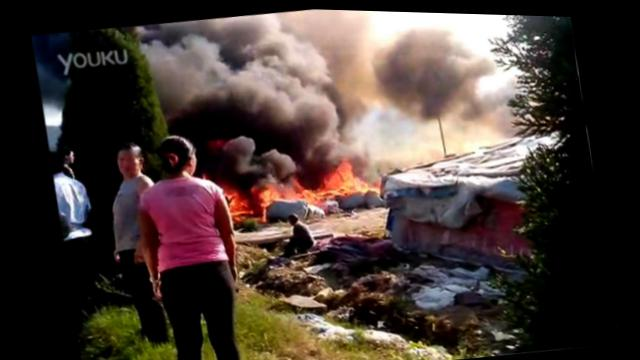fire: (321, 165, 365, 196), (225, 186, 247, 219), (255, 183, 277, 203), (298, 186, 322, 202), (281, 184, 301, 197)
